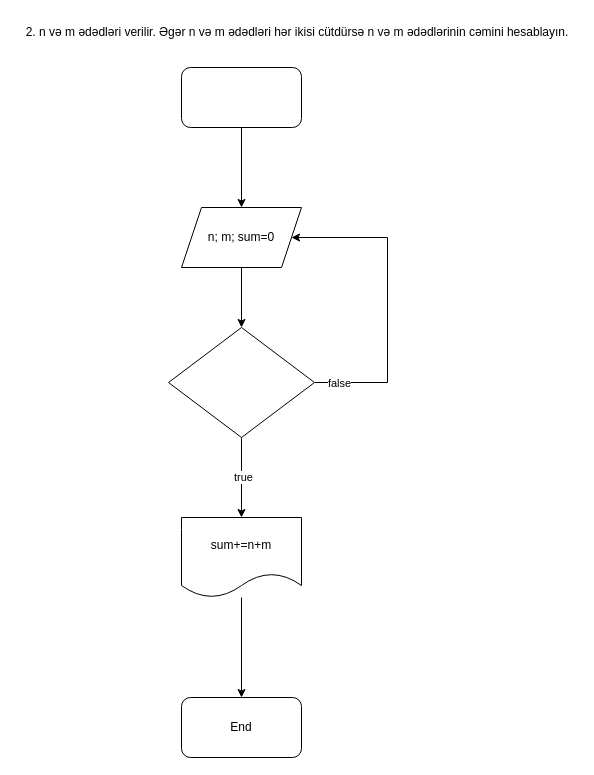
The diagram is 594 pixels wide and 775 high, and some of its shapes have lost their labels. The box of each missing label's shape, as (x1, y1, x2, y2) in pixels:
n%2==0 && m%2==0: (168, 326, 314, 438)
Start: (180, 66, 302, 128)
